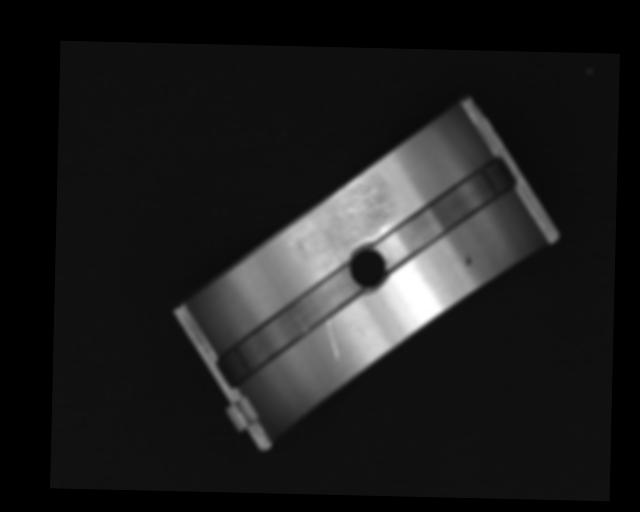bruise: (463, 253, 472, 267)
gap: (217, 269, 367, 382), (377, 158, 517, 268)
hole: (347, 246, 389, 290)
nick: (326, 318, 338, 362)
scratch: (290, 183, 392, 271)
